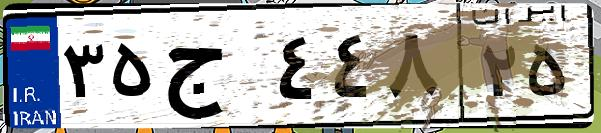2: (475, 38, 525, 113)
3: (57, 26, 110, 100)
4: (270, 28, 330, 110), (330, 28, 385, 110)
5: (525, 38, 570, 115), (110, 28, 158, 98)
8: (385, 28, 445, 110)
ج: (158, 20, 270, 120)
